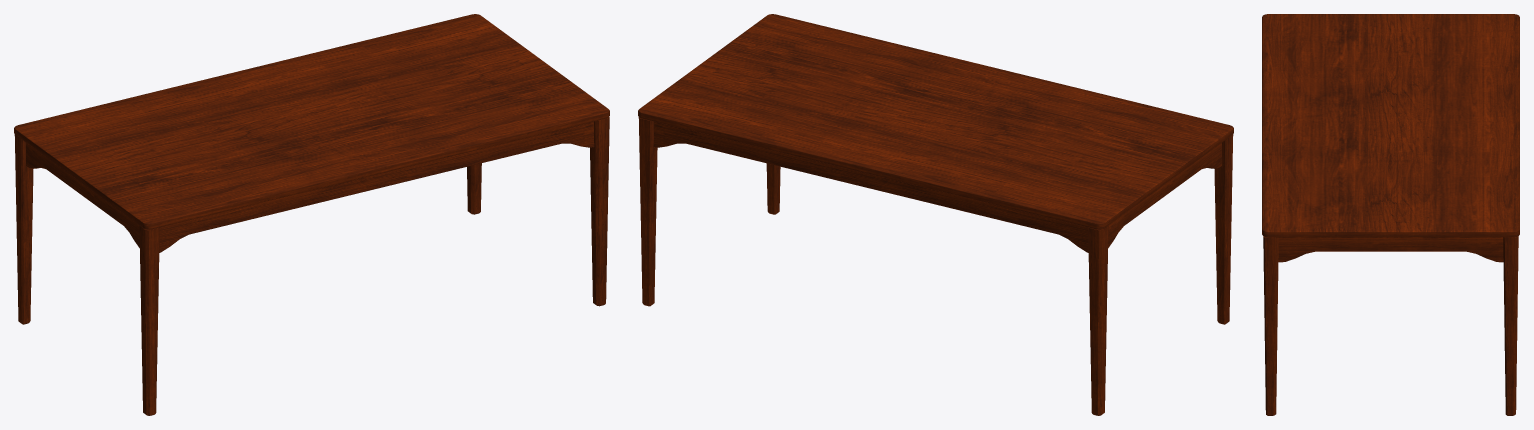
The model's file is table.fbx.
3 views of the same model, side by side, from view 1: azimuth 30°, elevation 25°; view 2: azimuth 150°, elevation 25°; view 3: azimuth 270°, elevation 25° (orthographic). The views are drawn at different scales.
Visible parts, largest first — view 1: board, partsA, poleD, poleB, poleC, poleA; view 2: board, partsA, poleC, poleA, poleD, poleB; view 3: board, partsA, poleA, poleB.
Boxes of the visible parts, left/top/right/bottom form: board: left=14, top=14, right=609, bottom=229; partsA: left=26, top=121, right=594, bottom=252; poleD: left=139, top=226, right=159, bottom=415; poleB: left=590, top=117, right=609, bottom=306; poleC: left=14, top=134, right=33, bottom=324; poleA: left=467, top=163, right=481, bottom=214; board: left=638, top=14, right=1233, bottom=229; partsA: left=653, top=121, right=1221, bottom=252; poleC: left=1088, top=226, right=1108, bottom=415; poleA: left=638, top=117, right=657, bottom=306; poleD: left=1214, top=134, right=1233, bottom=324; poleB: left=766, top=163, right=780, bottom=214; board: left=1262, top=14, right=1519, bottom=237; partsA: left=1278, top=237, right=1503, bottom=262; poleA: left=1503, top=236, right=1518, bottom=415; poleB: left=1263, top=236, right=1278, bottom=415.
Size of the model in its own units: 200 by 79.78 by 100.
